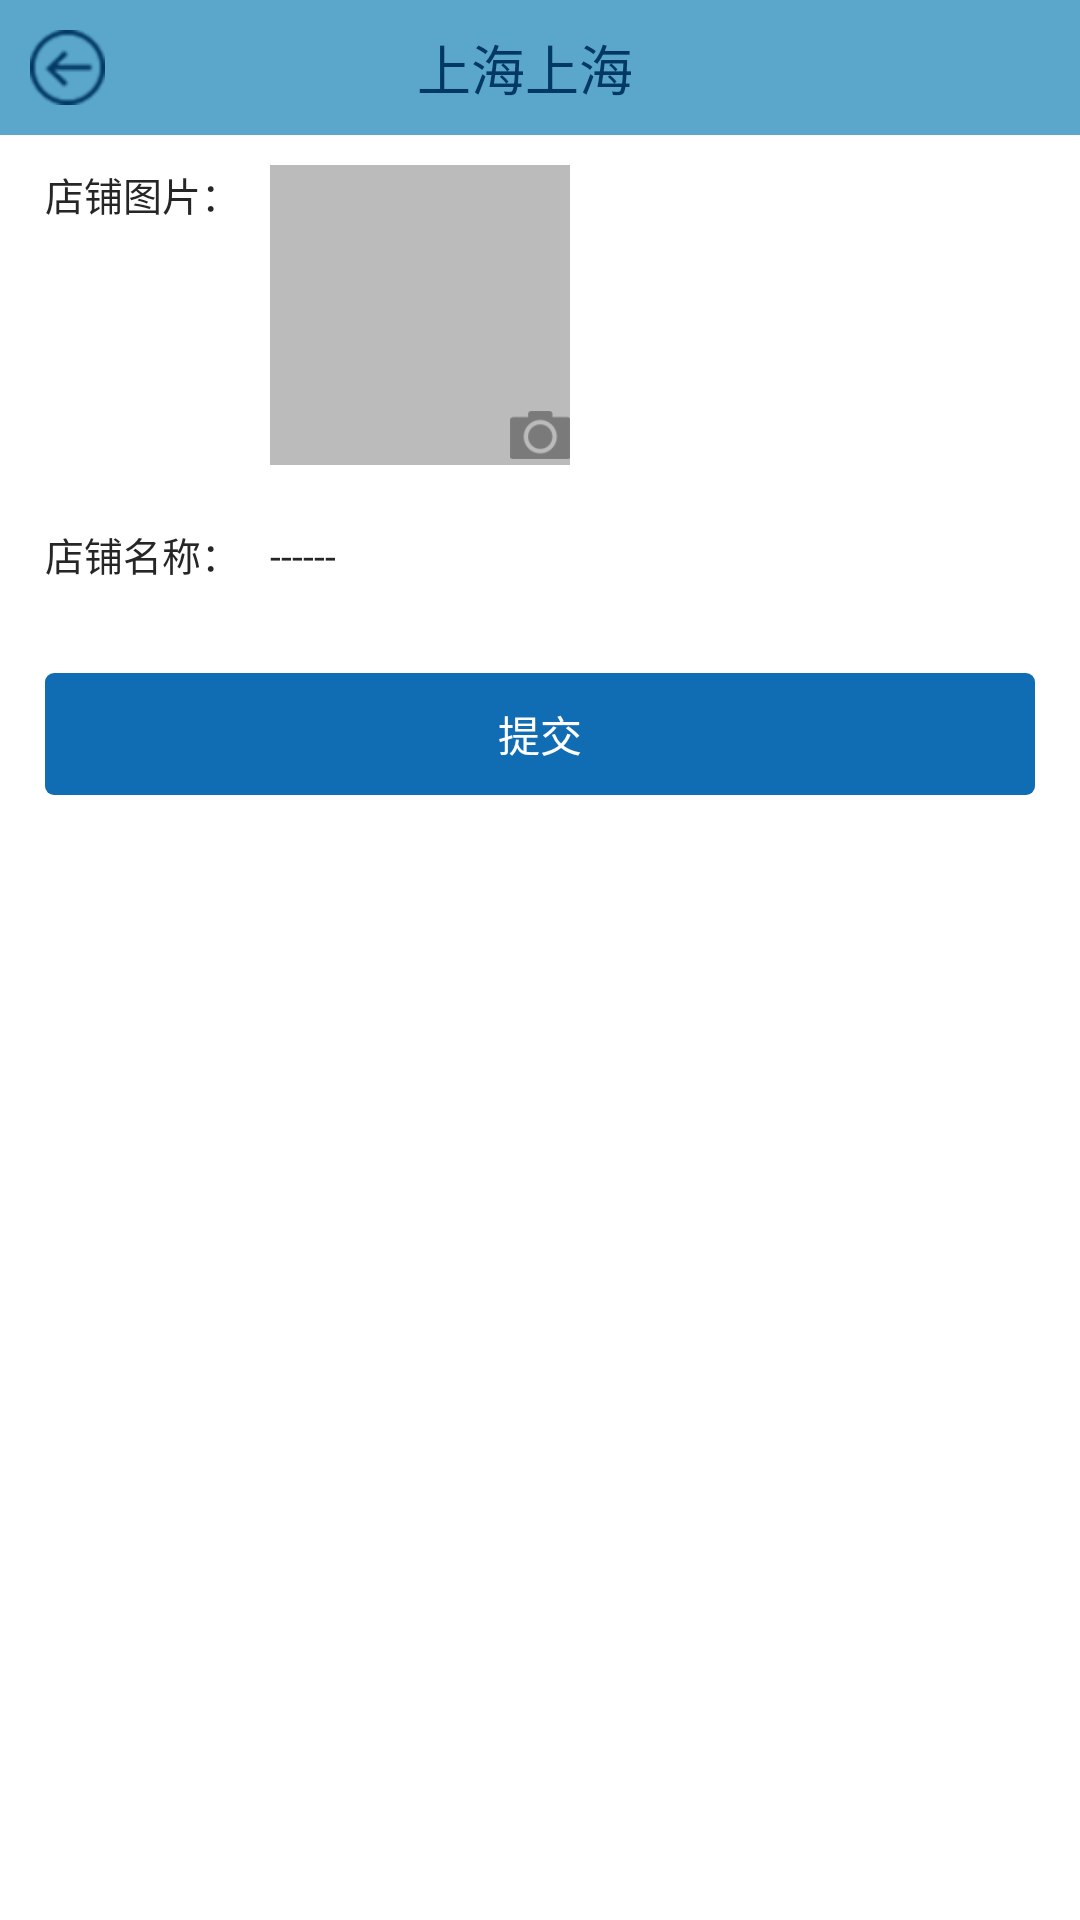

Point at icon controls on the screen. Image size 1080 × 1920, points as (x,y).
camera: (540,435)
